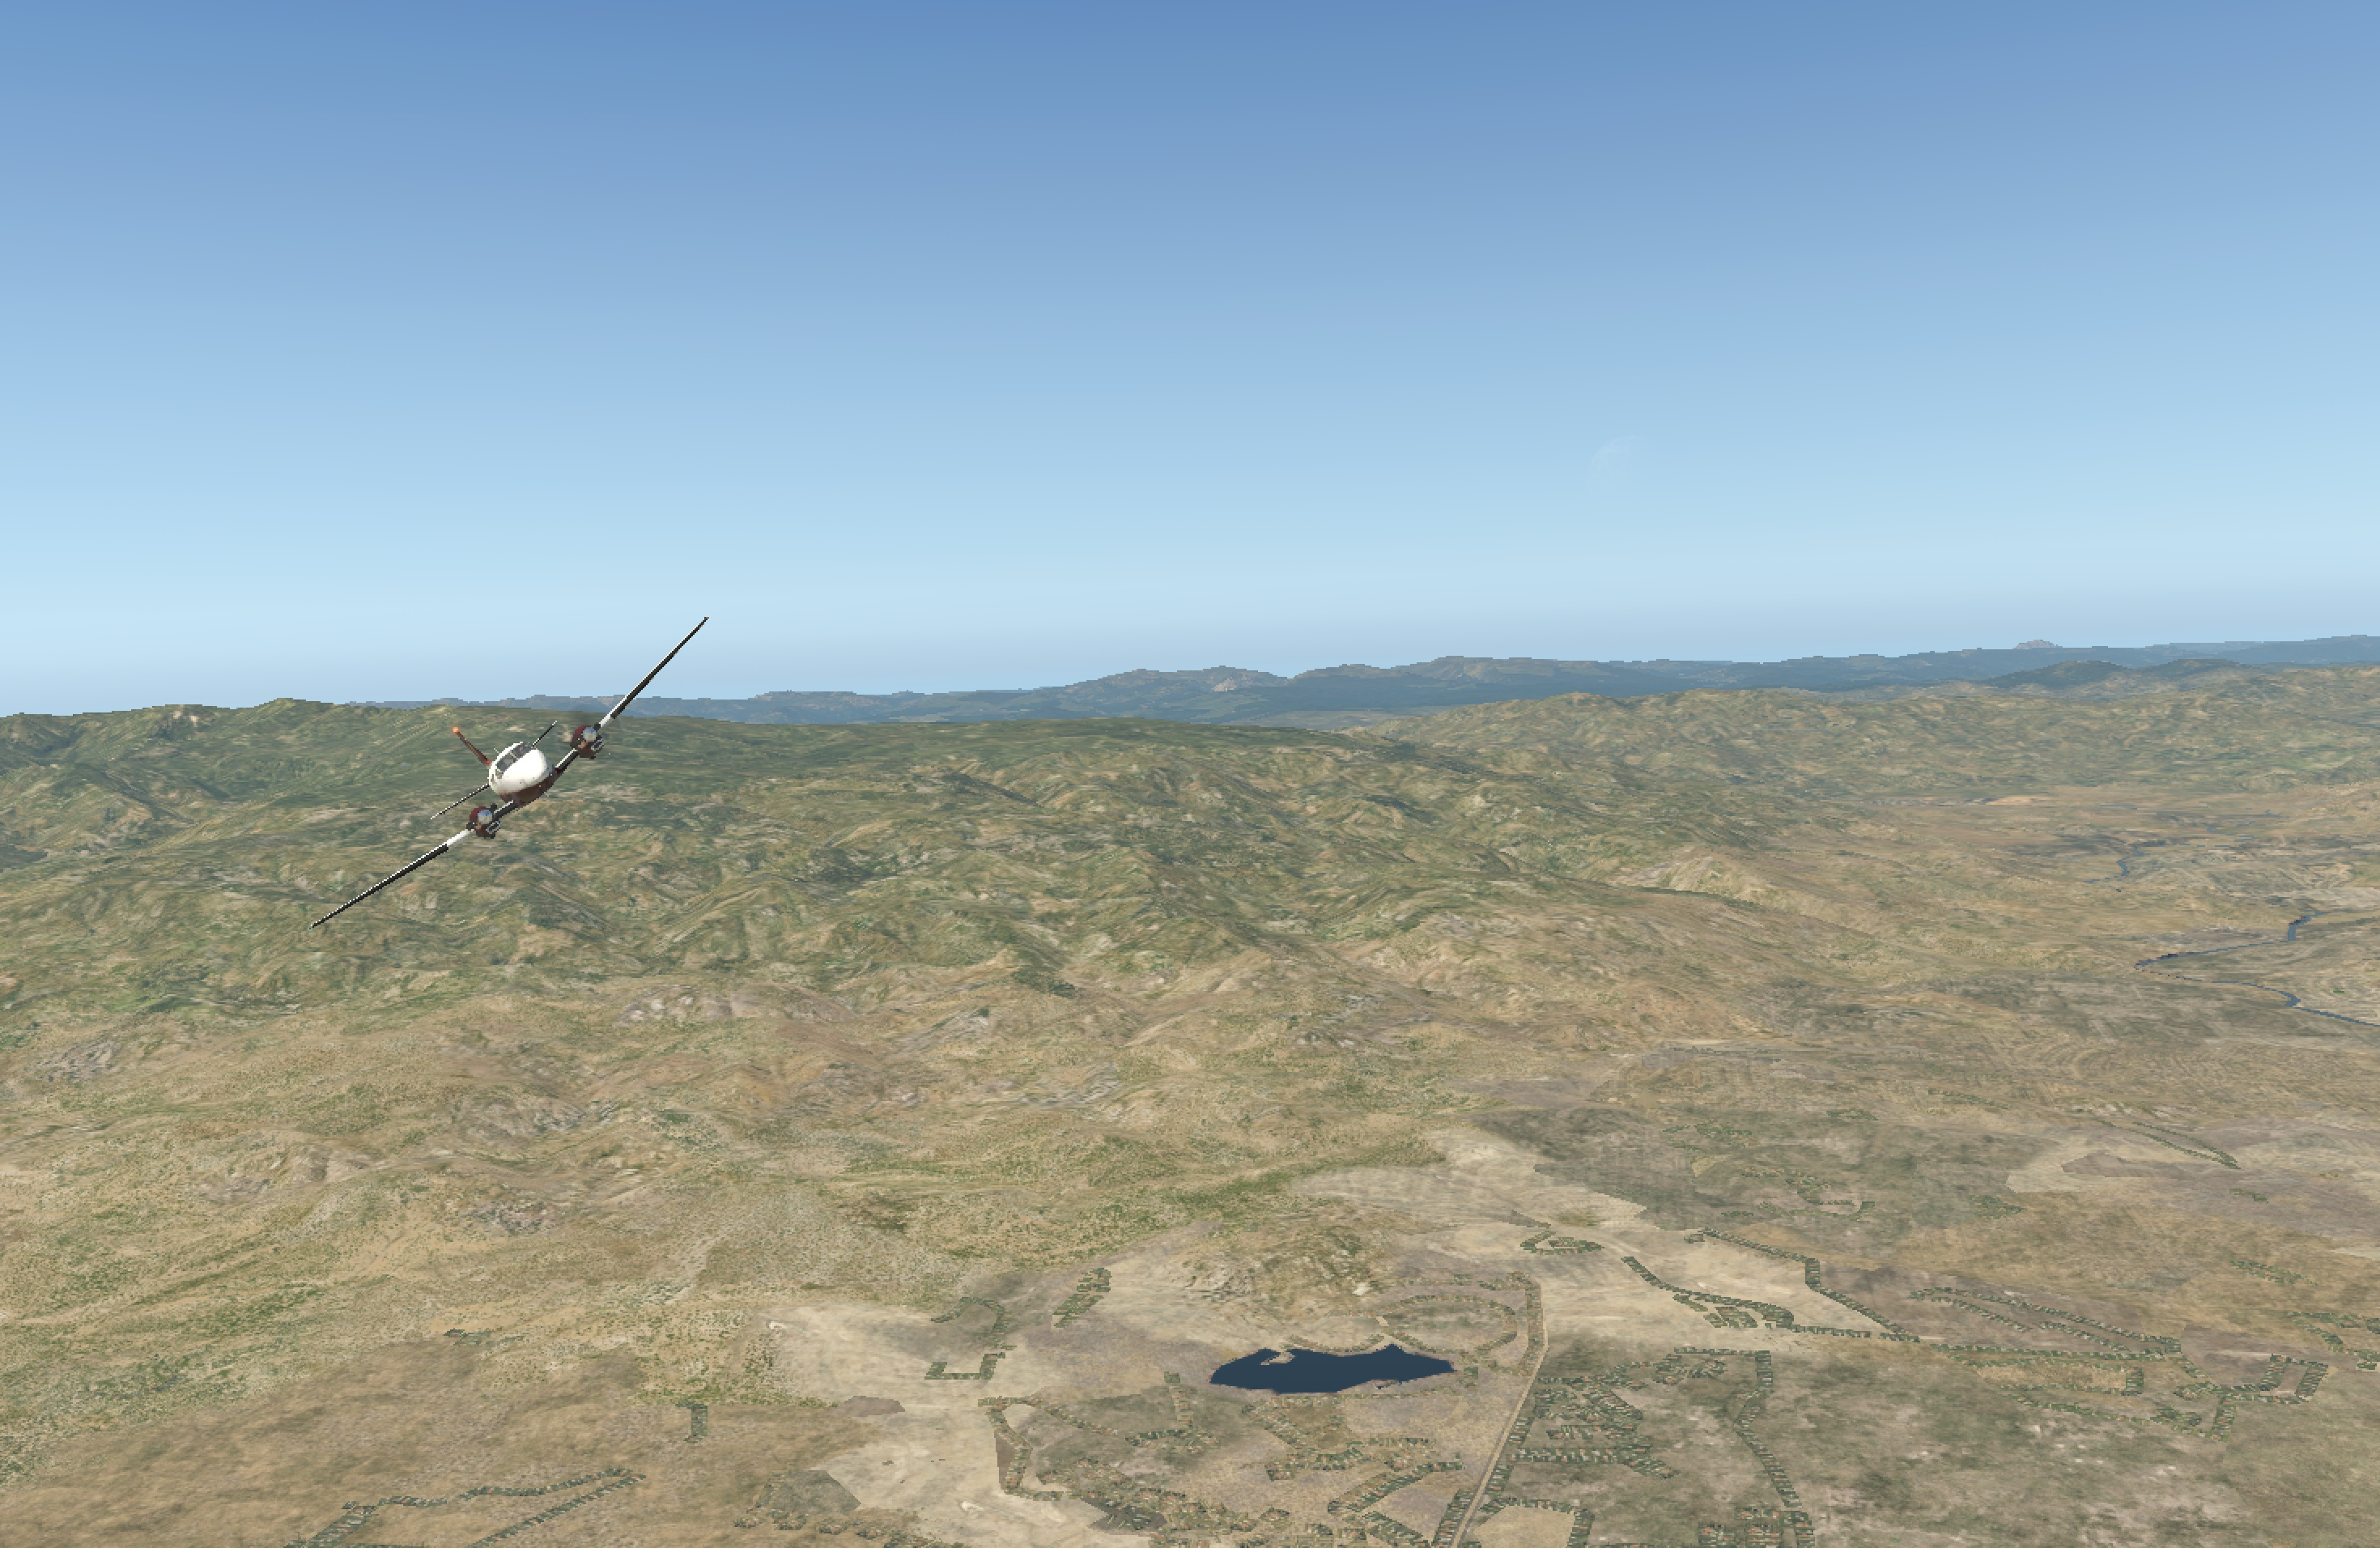aircraft: (300, 701, 777, 880)
